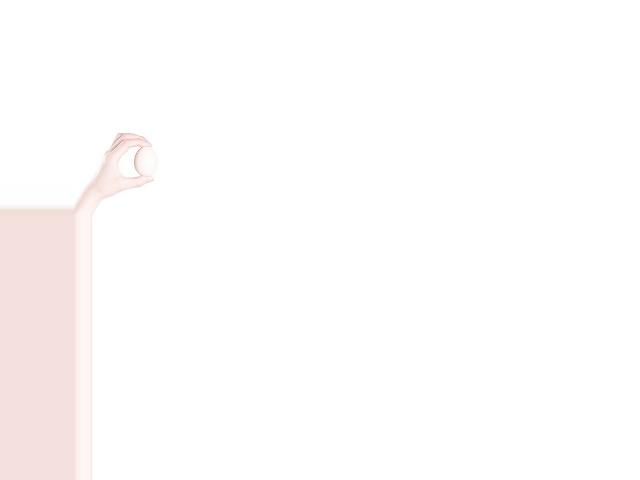egg: (133, 146, 157, 177)
